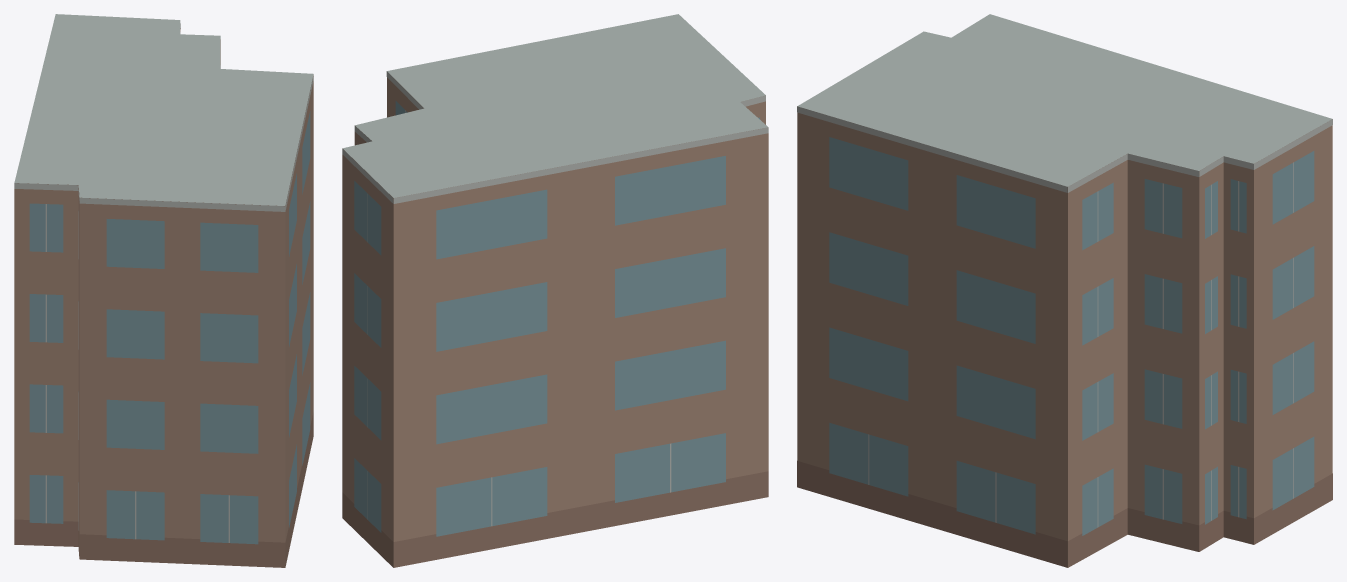
Rendered from survey-upis-32970709.glb.
3 renders of one model, left to right at view 1: azimuth 30°, elevation 25°; view 2: azimuth 150°, elevation 25°; view 3: azimuth 270°, elevation 25°, orthographic. The views are drawn at different scales.
Visible parts, largest first — view 1: survey-upis-32970709.tmp; view 2: survey-upis-32970709.tmp; view 3: survey-upis-32970709.tmp.
Boxes of the visible parts, x1=… form: survey-upis-32970709.tmp: x1=14, y1=14, x2=313, y2=567; survey-upis-32970709.tmp: x1=342, y1=14, x2=768, y2=567; survey-upis-32970709.tmp: x1=797, y1=14, x2=1332, y2=567.
Size of the model in its own units: 14.6 by 15 by 19.12.
